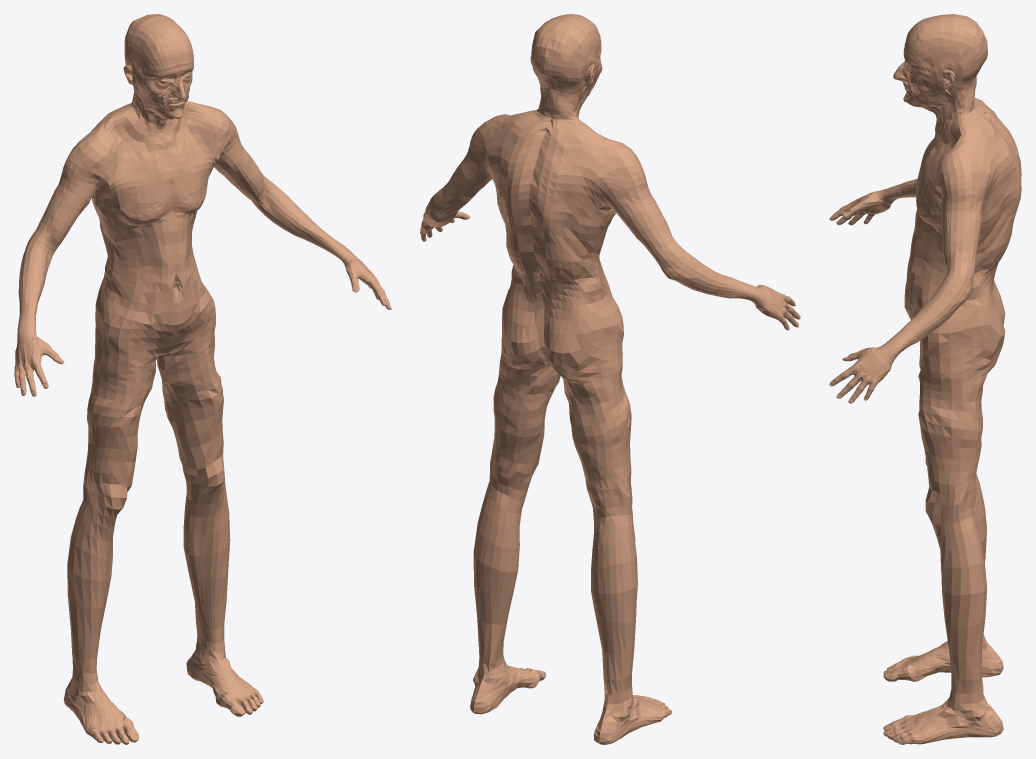
The model's file is doctor_2.obj.
3 renders of one model, left to right at view 1: azimuth 30°, elevation 25°; view 2: azimuth 150°, elevation 25°; view 3: azimuth 270°, elevation 25°, orthographic.
Parts seen in each view (by area): view 1: base_obj; view 2: base_obj; view 3: base_obj.
Boxes of the visible parts, bbox=[...] form: base_obj: bbox=[14, 14, 391, 744]; base_obj: bbox=[420, 14, 800, 744]; base_obj: bbox=[829, 14, 1021, 744].
Size of the model in its own units: 74.14 by 132 by 33.5.
